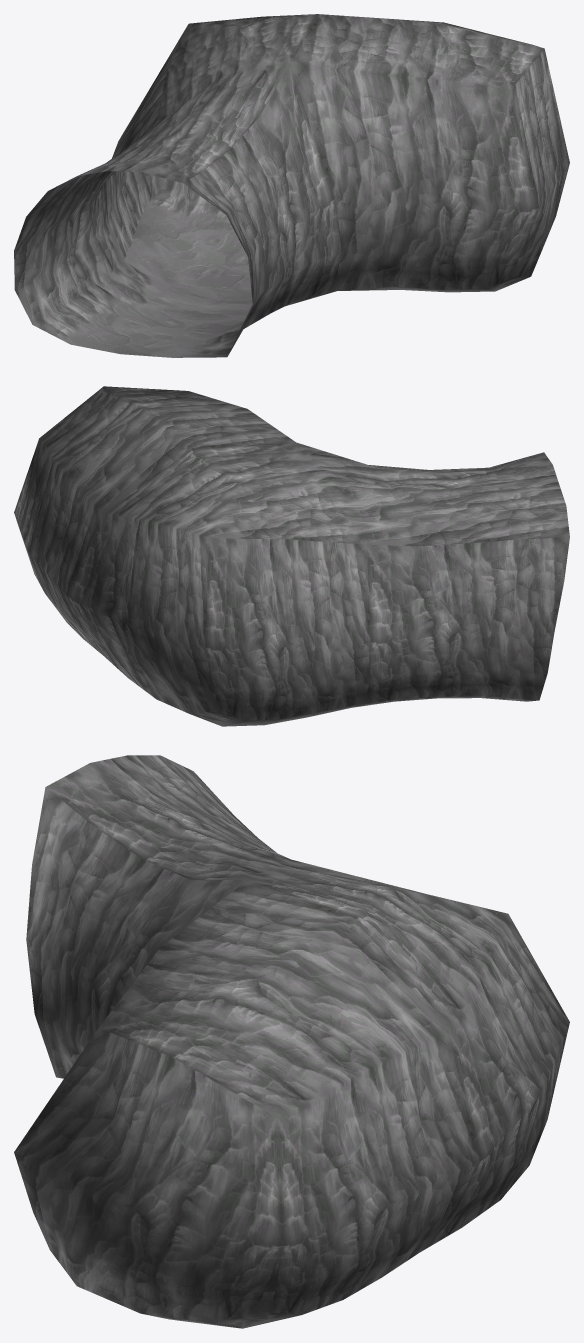
The model's file is SWORDLIGHT20_PS-AREA03-05TRANS_02.fbx.
The picture shows the model from 3 angles, top to bottom: view 1: azimuth 30°, elevation 25°; view 2: azimuth 150°, elevation 25°; view 3: azimuth 270°, elevation 25°; orthographic projection. The views are drawn at different scales.
Parts seen in each view (by area): view 1: SWORDLIGHT20_PS-AREA03-05TRANS_02; view 2: SWORDLIGHT20_PS-AREA03-05TRANS_02; view 3: SWORDLIGHT20_PS-AREA03-05TRANS_02.
Boxes of the visible parts, x1,y1,x2,y2 form: SWORDLIGHT20_PS-AREA03-05TRANS_02: (14, 14, 569, 357); SWORDLIGHT20_PS-AREA03-05TRANS_02: (14, 386, 569, 726); SWORDLIGHT20_PS-AREA03-05TRANS_02: (14, 755, 569, 1328).
Size of the model in its own units: 171952 by 73465 by 110483.
Materials: 4 (4 with a texture image).
